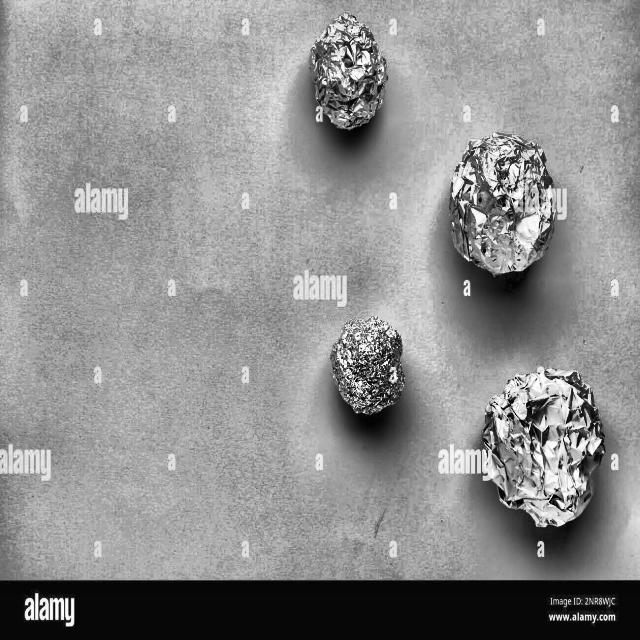Foil: (466, 344, 606, 536), (437, 105, 573, 288), (294, 1, 408, 146), (327, 305, 412, 433)
